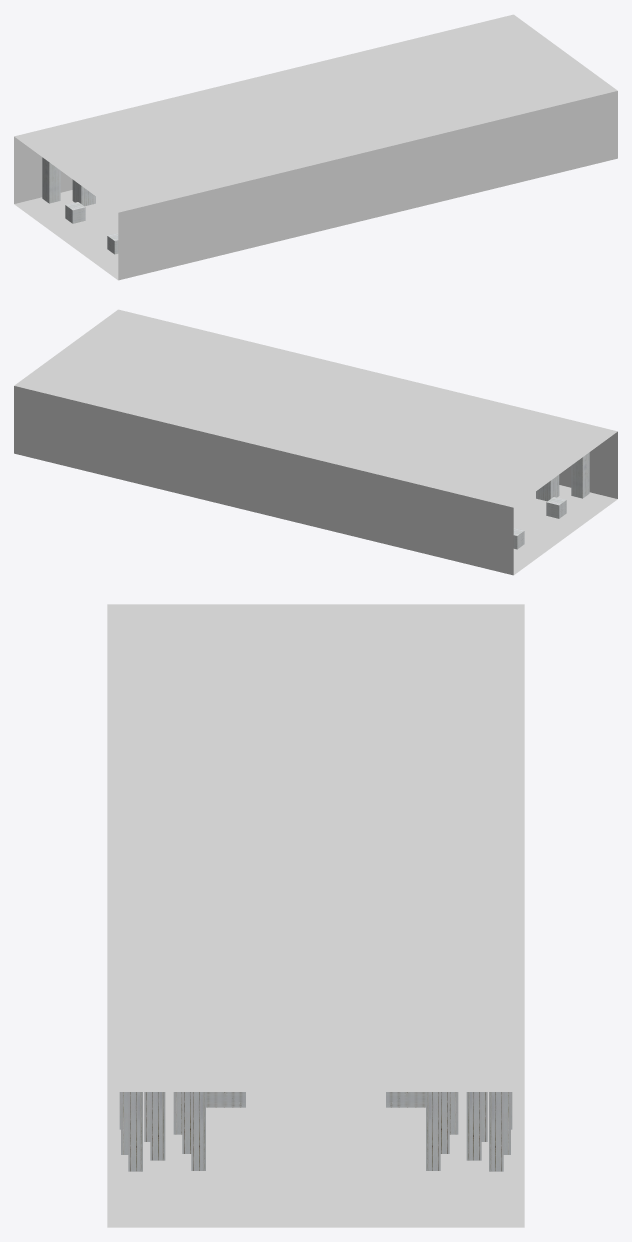
File: MAP3.fbx
The picture shows the model from 3 angles, top to bottom: view 1: azimuth 30°, elevation 25°; view 2: azimuth 150°, elevation 25°; view 3: azimuth 270°, elevation 25°; orthographic projection. The views are drawn at different scales.
Visible parts, largest first — view 1: Box001, Box202, Box183, Box184; view 2: Box001, Box117, Box098, Box099; view 3: Box001, Box159, Box244, Box160, Box245, Box157, Box242.
Part boxes in pixels (x1,y1,x2,y2): Box001: (14, 14, 617, 280); Box202: (42, 157, 60, 203); Box183: (72, 179, 95, 206); Box184: (65, 202, 85, 223); Box001: (14, 309, 617, 575); Box117: (571, 452, 589, 498); Box098: (536, 474, 559, 501); Box099: (546, 497, 566, 518); Box001: (107, 604, 524, 1227); Box159: (128, 1092, 142, 1171); Box244: (489, 1092, 503, 1171); Box160: (191, 1092, 205, 1170); Box245: (426, 1092, 440, 1170); Box157: (150, 1092, 165, 1160); Box242: (466, 1092, 481, 1160).
Bounding box in the file's own units: 775 × 100 × 280.
1 material, 1 textured.
